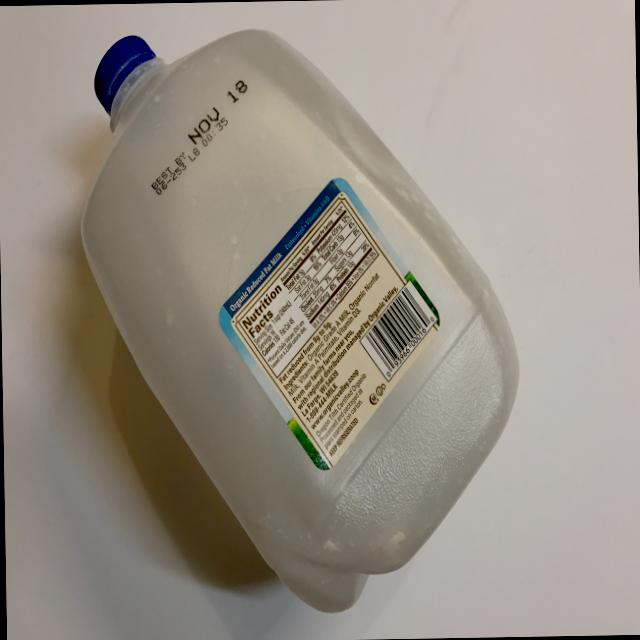Plastic: (47, 11, 498, 640)
